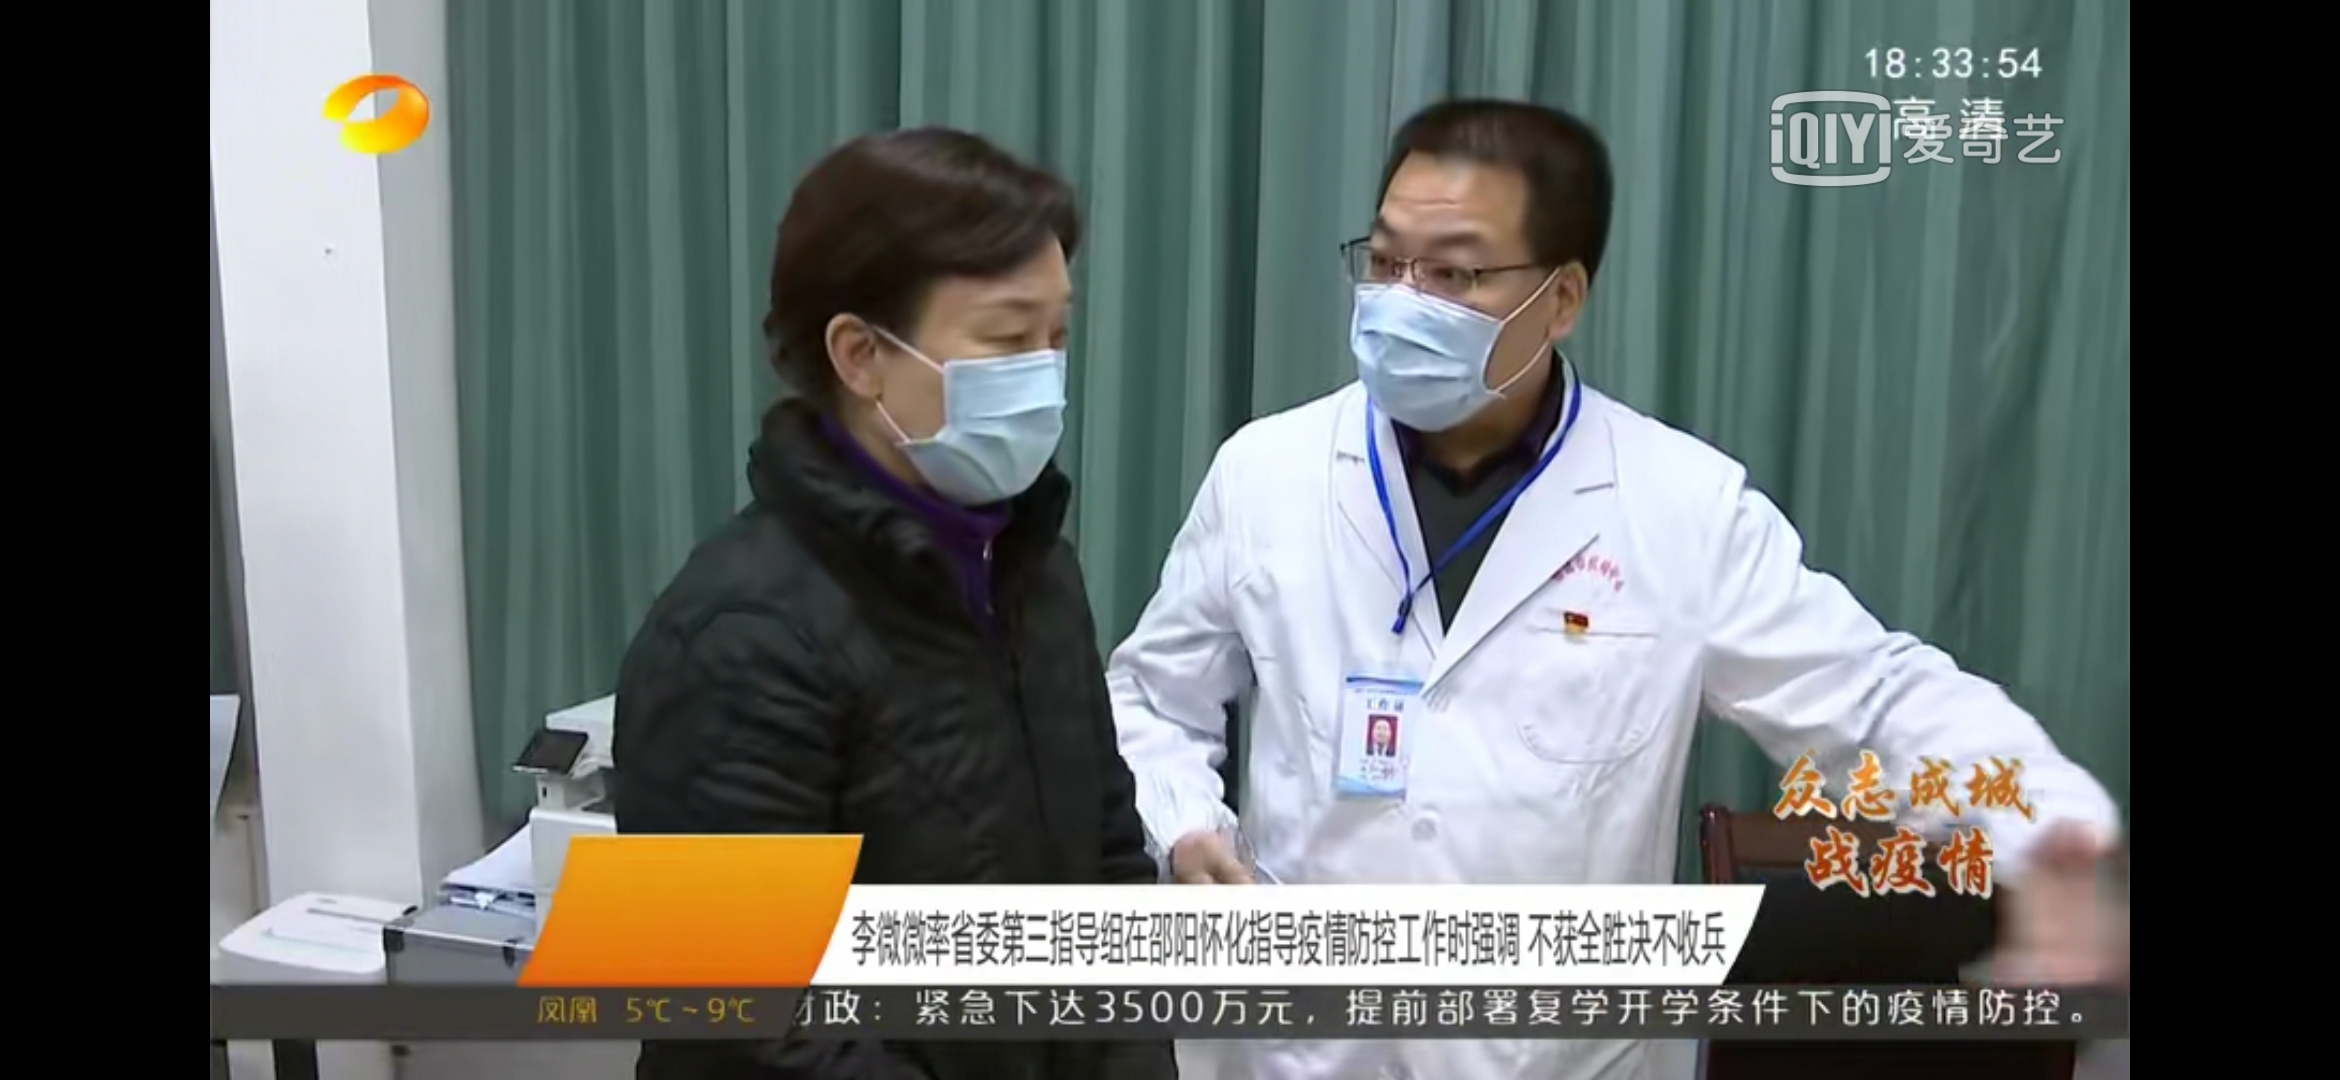correctlyWear: (825, 245, 1077, 501), (1345, 179, 1592, 430)
